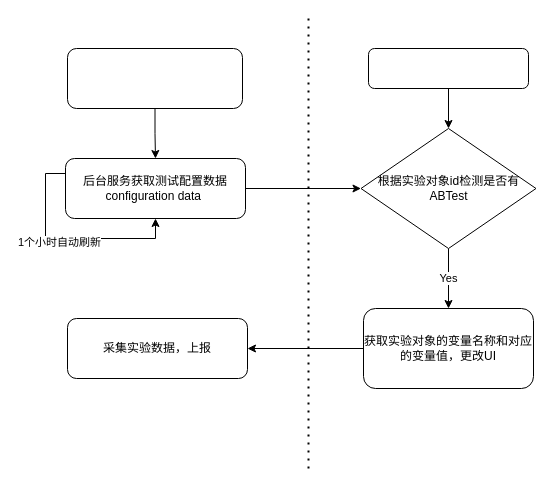
The diagram is 553 pixels wide and 487 high, and some of its shapes have lost their labels. The centre of each missing label's shape, as x and y in pixels:
SDK初始化 ABTest.init("AppKey"): (154,78)
打开某个页面: (448,68)
